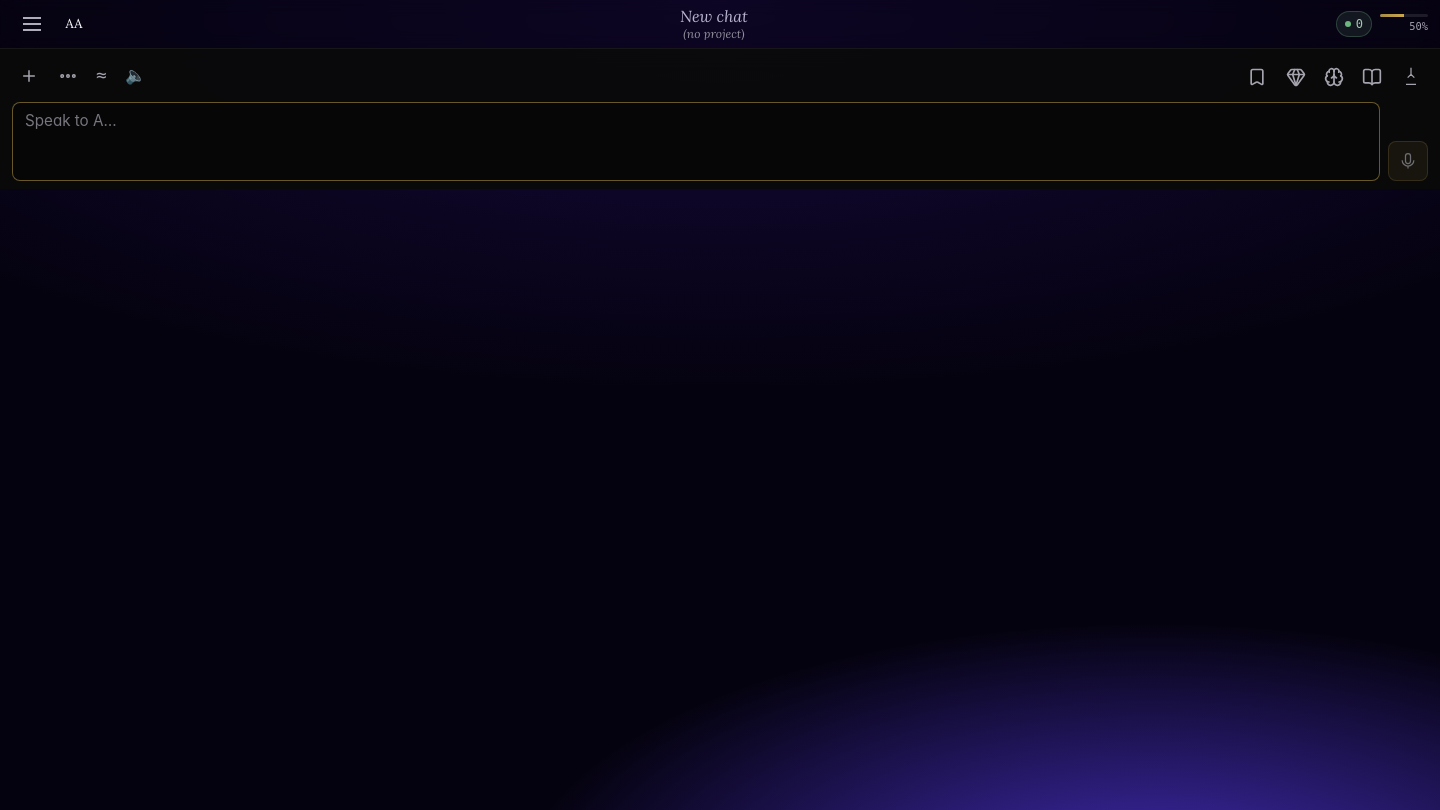
Scenario: Escape with the quick menu open closes only the menu, not the cockpit
This screenshot has width=1440, height=810.
Click the button named "Quick menu" at (32, 24), box [12,4,52,44]
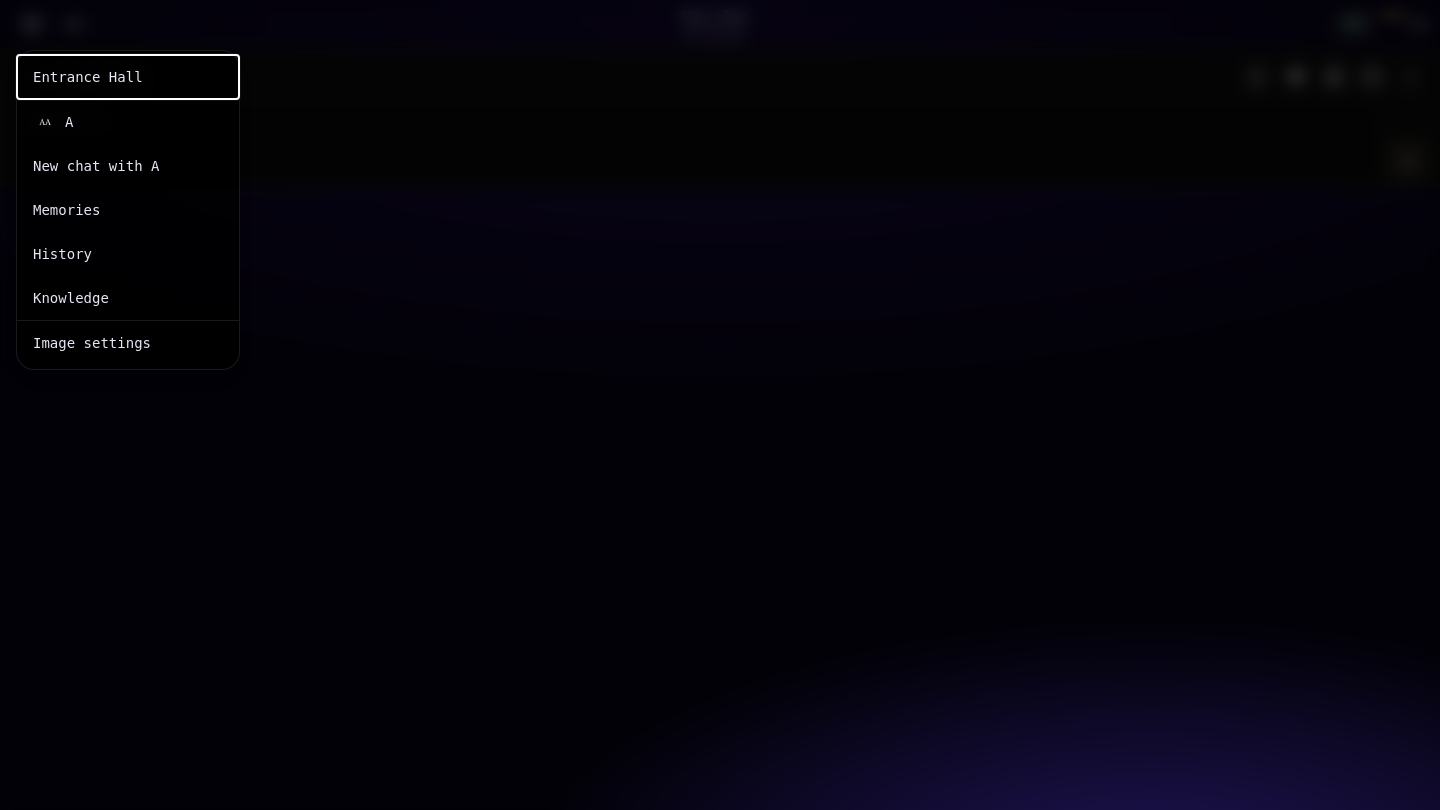
Expected: the menu is shown, [16,50,240,370]
Press Escape in the menu item "Entrance Hall", box [17,55,239,99]
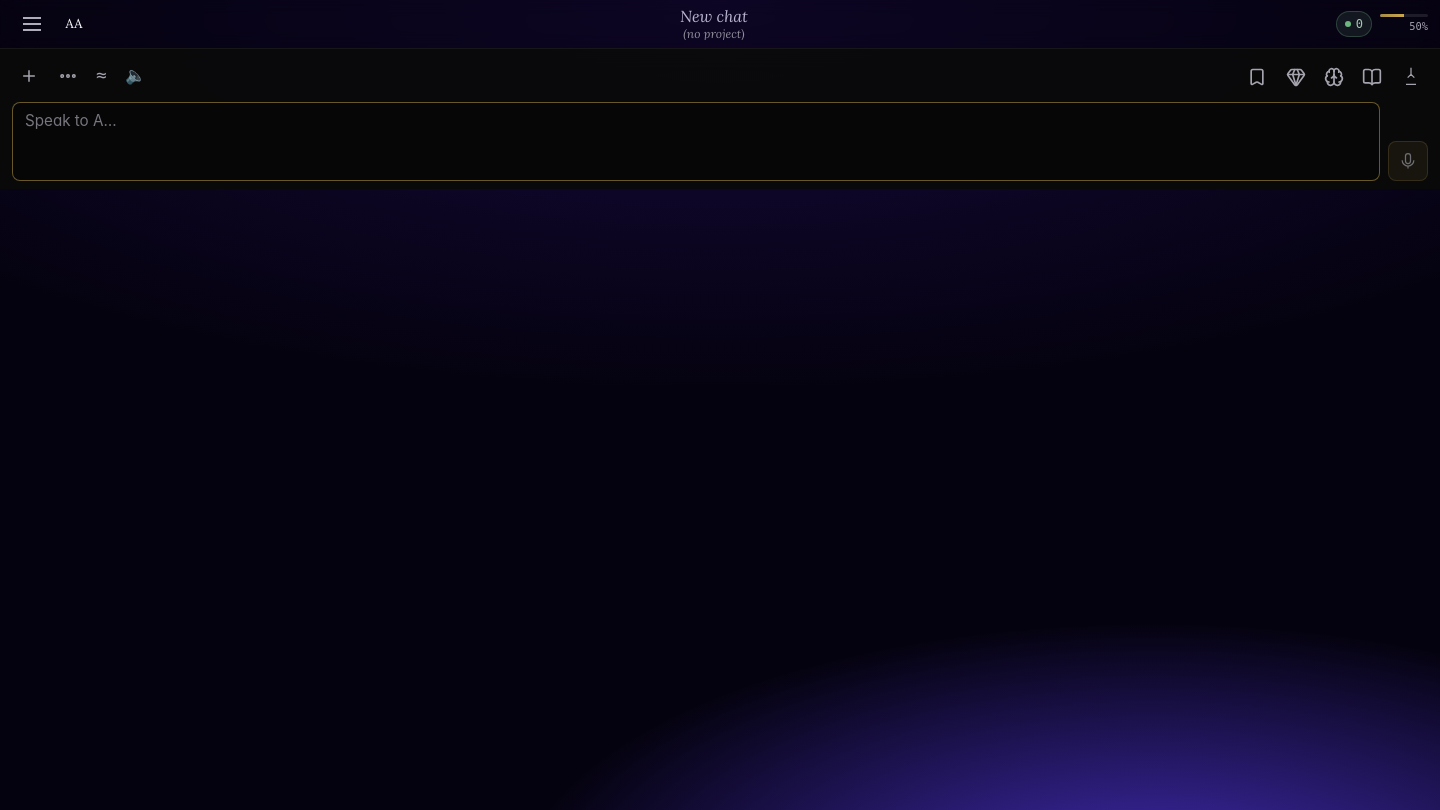
Expected: the menu is gone
